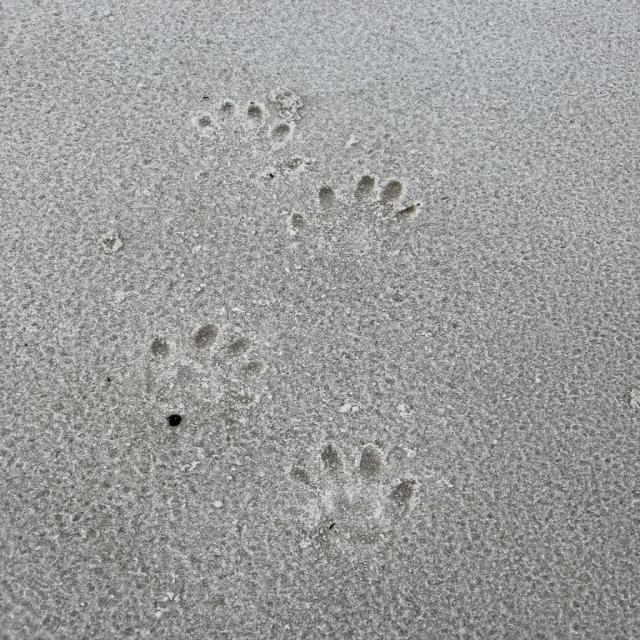mustelid: (289, 172, 433, 282), (144, 321, 266, 436), (290, 440, 416, 546), (188, 100, 304, 193)
